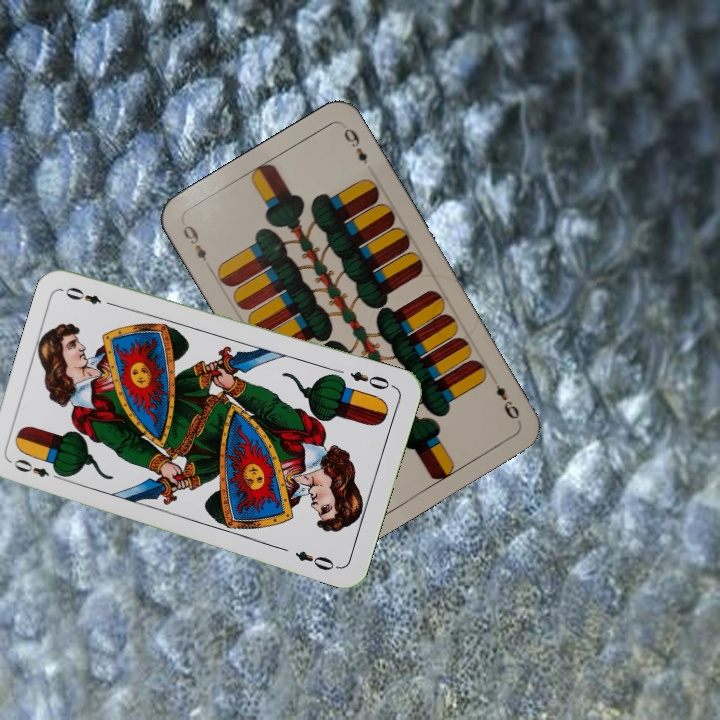E9: (178, 220, 209, 264), (491, 380, 522, 422)
EO: (9, 455, 66, 483), (346, 367, 397, 393)
